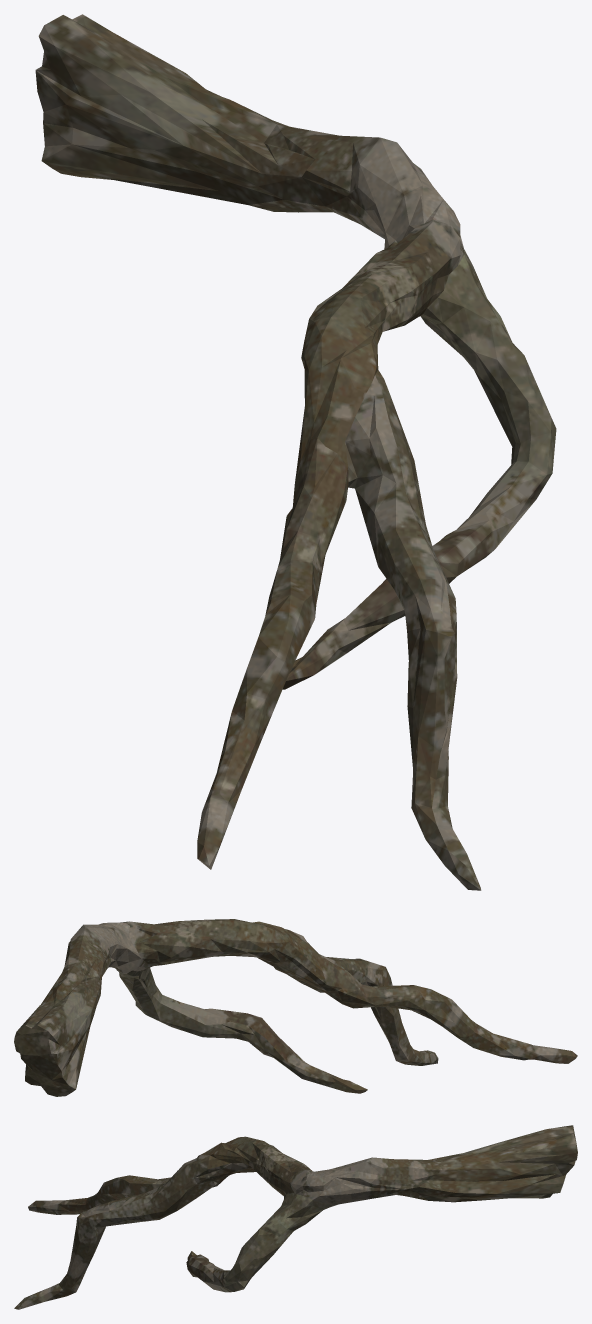
The model's file is House29.fbx.
3 views of the same model, one above another, from view 1: azimuth 30°, elevation 25°; view 2: azimuth 150°, elevation 25°; view 3: azimuth 270°, elevation 25° (orthographic). The views are drawn at different scales.
Visible parts, largest first — view 1: AT_BGAgo_GiantTree_A03_10B.mo; view 2: AT_BGAgo_GiantTree_A03_10B.mo; view 3: AT_BGAgo_GiantTree_A03_10B.mo.
Part boxes in pixels (bbox=[...]): AT_BGAgo_GiantTree_A03_10B.mo: bbox=[35, 14, 556, 890]; AT_BGAgo_GiantTree_A03_10B.mo: bbox=[14, 919, 577, 1096]; AT_BGAgo_GiantTree_A03_10B.mo: bbox=[14, 1125, 577, 1309].
Size of the model in its own units: 2562 by 1887 by 4433.
